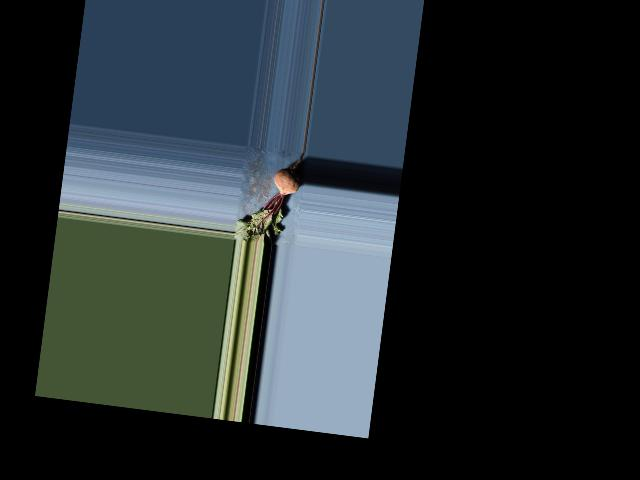beet: (233, 145, 304, 248)
